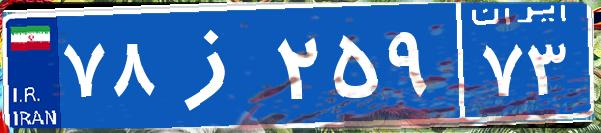2: (273, 28, 330, 110)
3: (525, 38, 570, 115)
5: (330, 28, 385, 110)
7: (57, 26, 110, 107), (475, 38, 525, 113)
8: (110, 28, 158, 105)
9: (385, 28, 445, 110)
ز: (158, 15, 273, 115)
